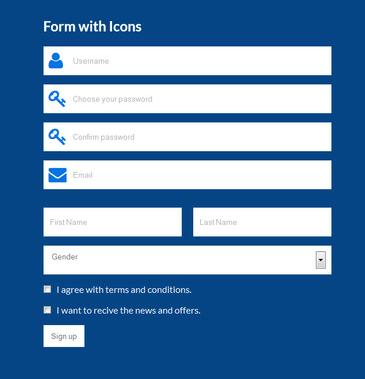button: (42, 324, 85, 348)
checkbox: (40, 284, 54, 293), (42, 304, 53, 314)
checkbox_with_label: (40, 302, 201, 316), (37, 282, 192, 295)
field: (42, 243, 334, 277), (42, 45, 333, 77), (41, 83, 332, 115), (42, 121, 332, 153), (42, 159, 332, 191), (41, 206, 183, 238), (191, 207, 334, 237)
